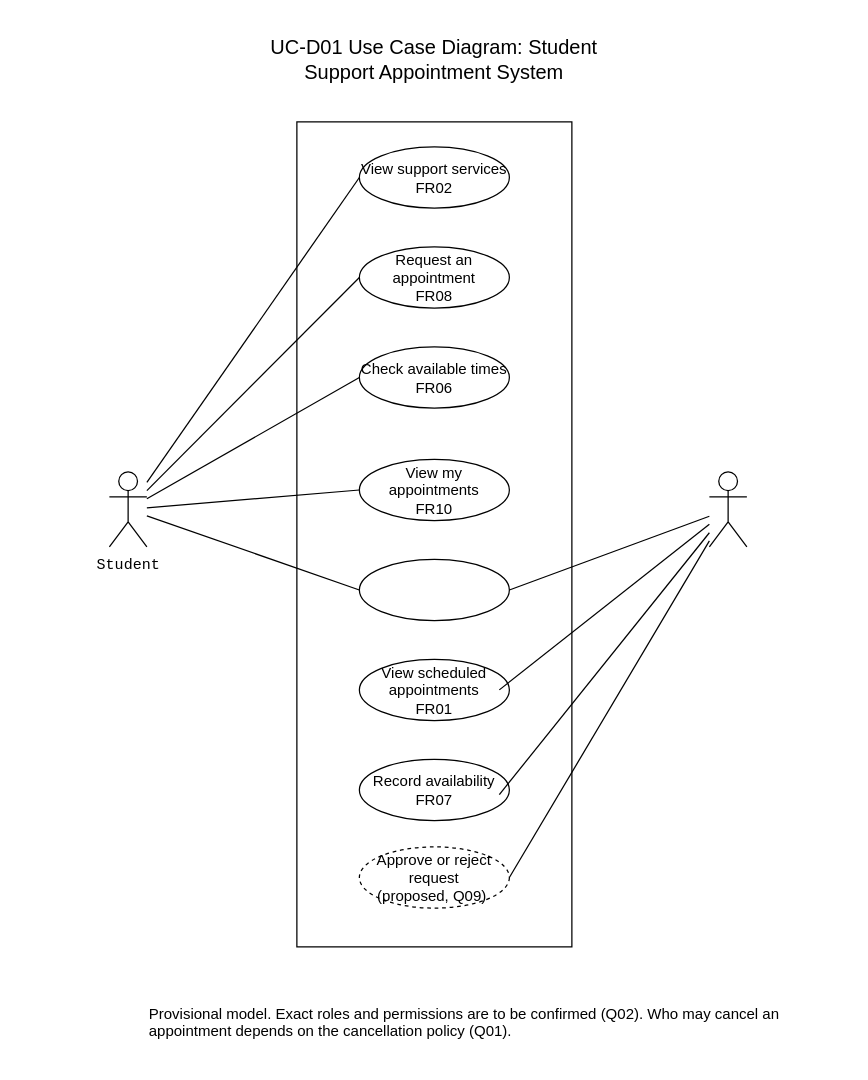
This 868x1080 diagram has some shape labels left out. The box of each missing label's shape, as (x1, y1, x2, y2) in pixels:
Cancel an appointment FR12: (358, 558, 509, 621)
Support Staff: (708, 471, 747, 547)
